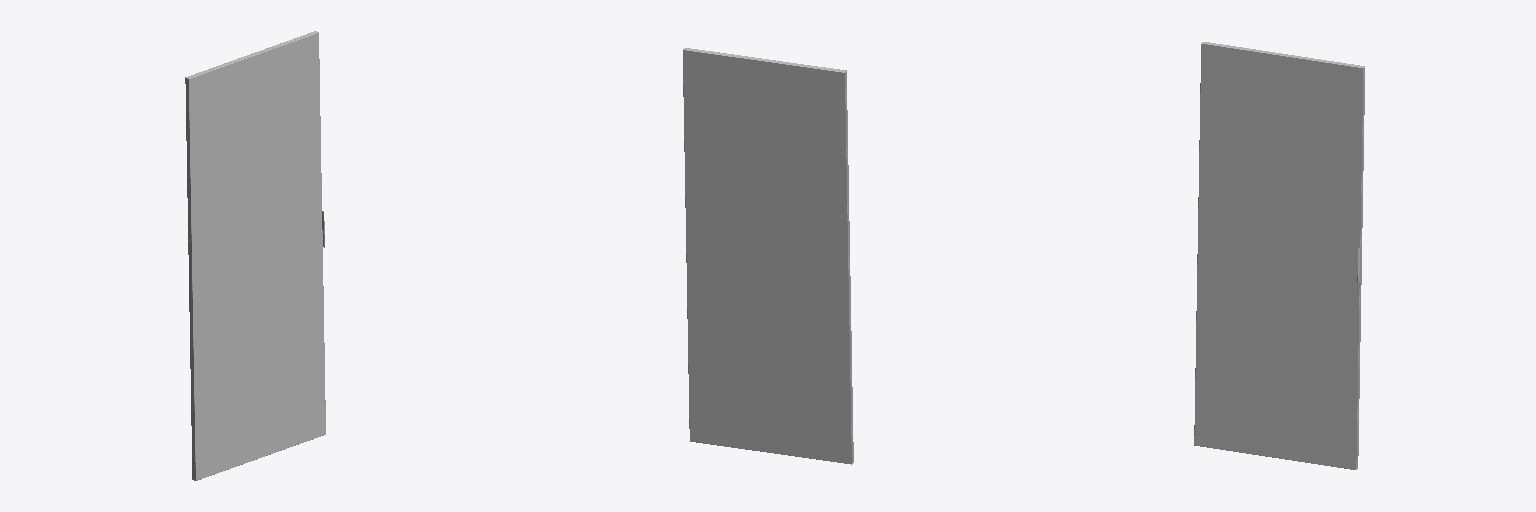
The model's file is WOOD_PLANE_1.obj.
3 views of the same model, side by side, from view 1: azimuth 30°, elevation 25°; view 2: azimuth 150°, elevation 25°; view 3: azimuth 330°, elevation 25° (orthographic).
Visible parts, largest first — view 1: door01.002_Cube.011; view 2: door01.002_Cube.011; view 3: door01.002_Cube.011.
Boxes of the visible parts, x1,y1,x2,y2 form: door01.002_Cube.011: [185, 31, 325, 480]; door01.002_Cube.011: [683, 48, 853, 464]; door01.002_Cube.011: [1194, 42, 1364, 469].
Bounding box in the file's own units: 0.5921 × 1.52 × 0.179.